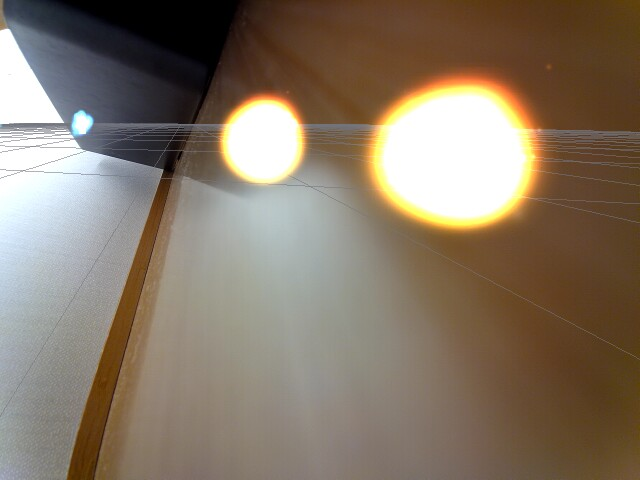firebig: (360, 71, 550, 232)
